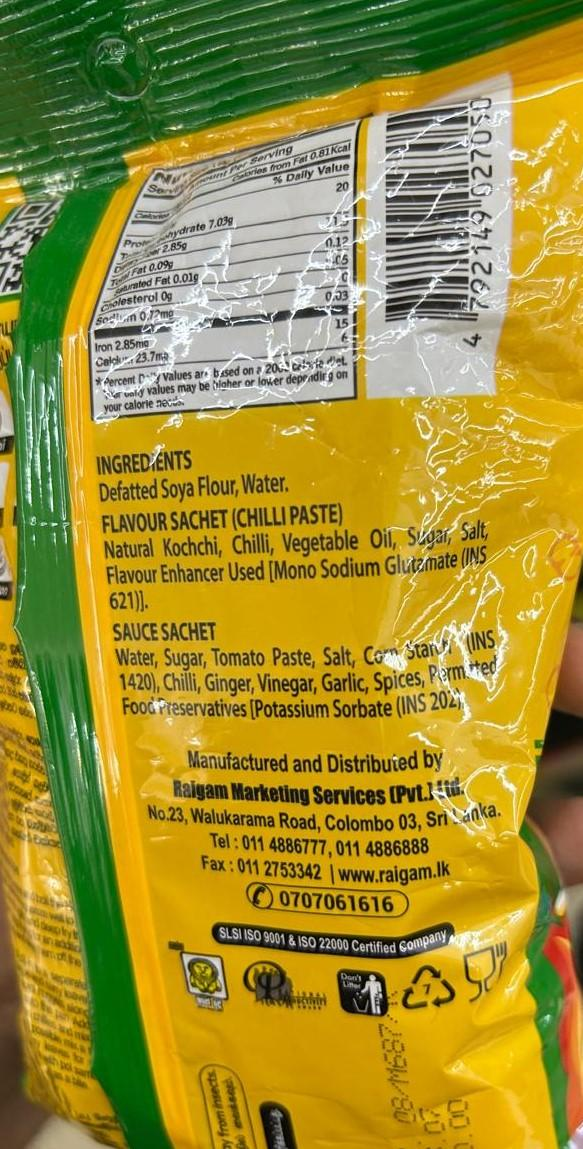ingredients: (72, 406, 525, 775)
